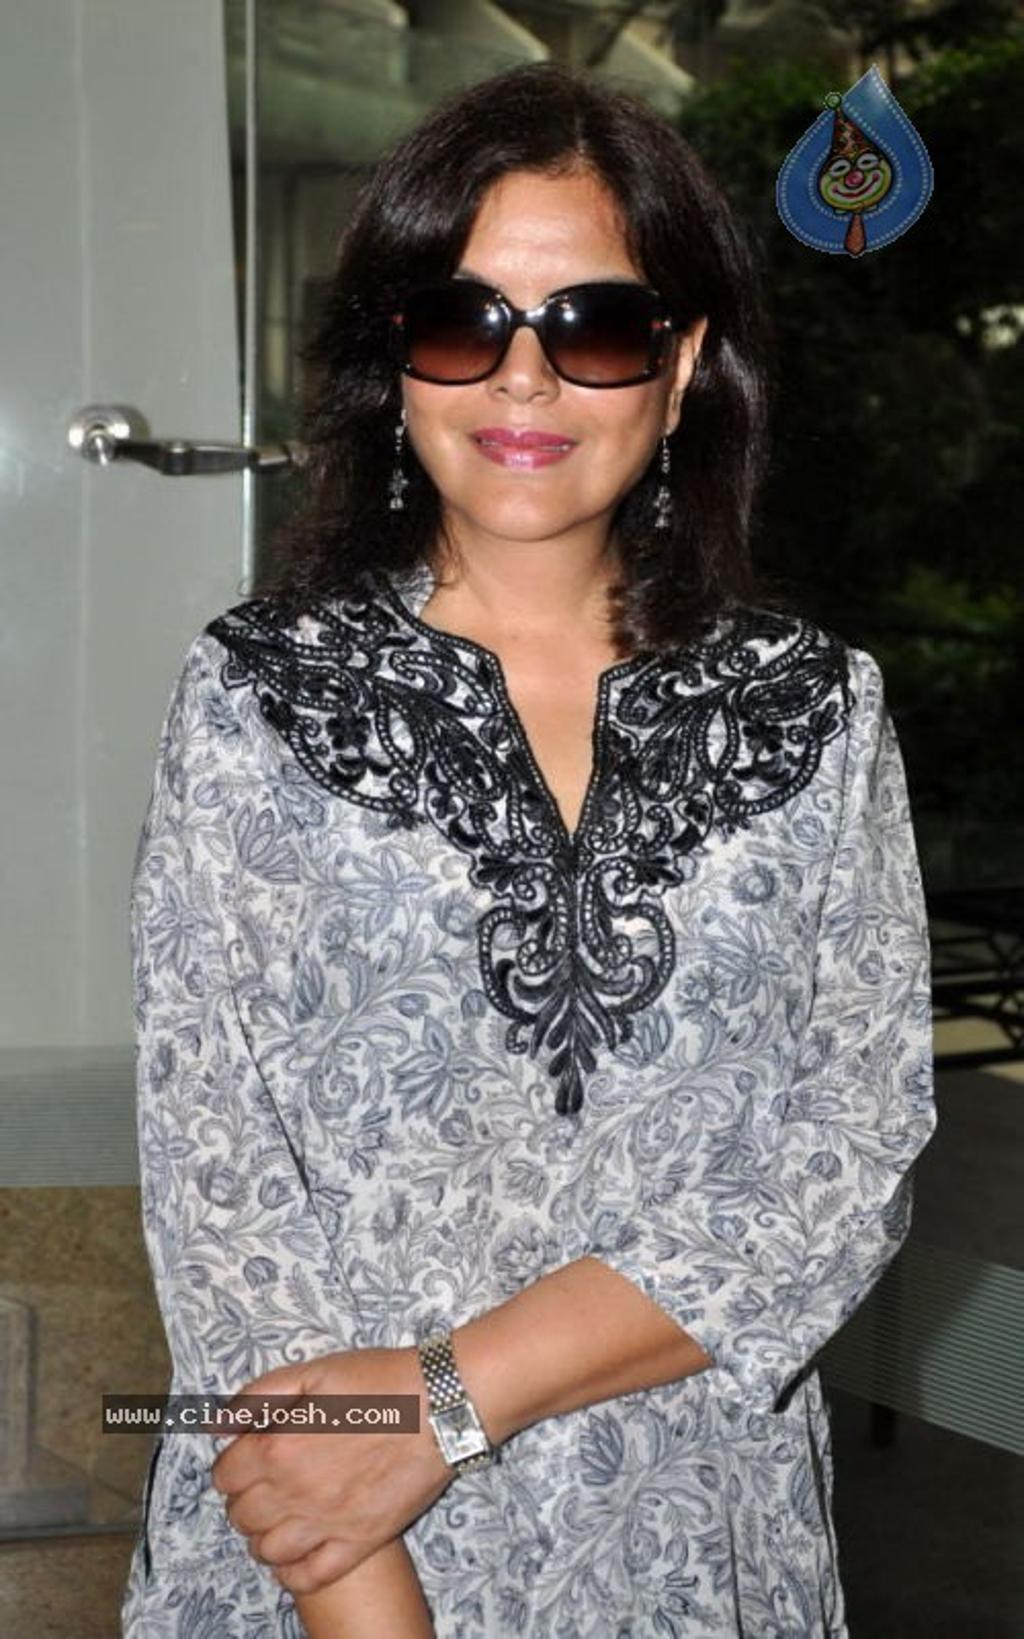face: (411, 177, 673, 539)
